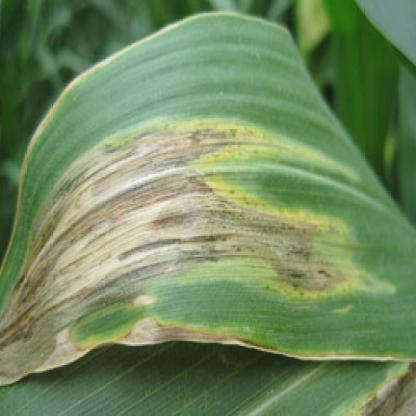Corn leaf blight: (5, 24, 415, 359)
